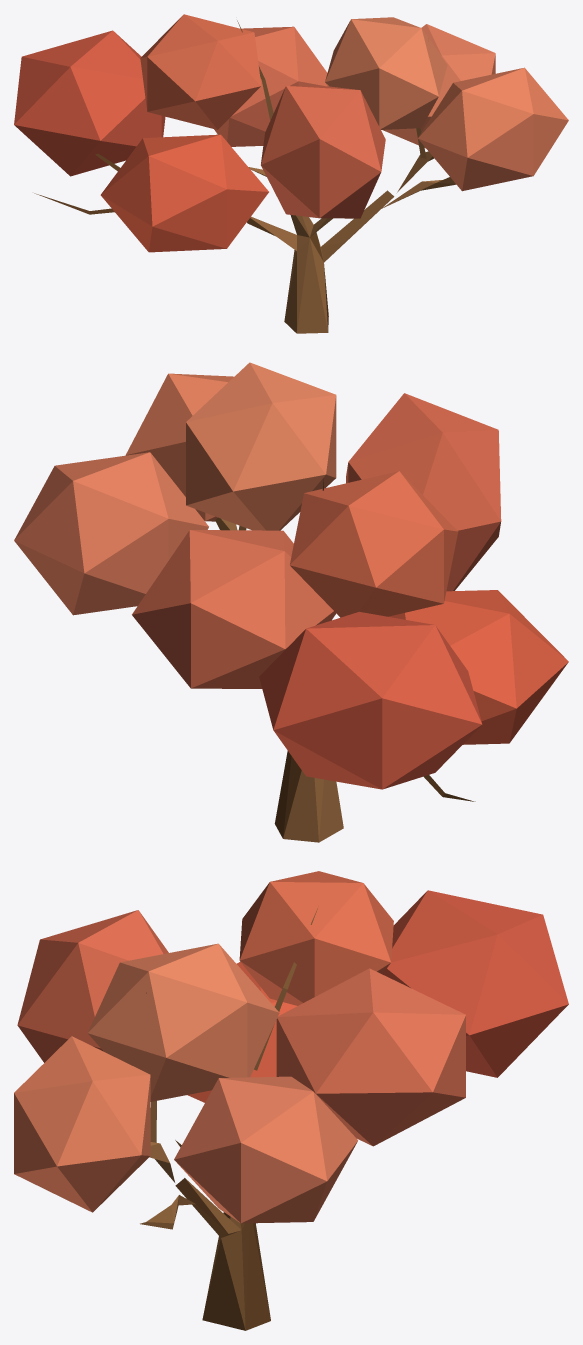
Rendered from cherry_var_autumn_far.glb.
3 renders of one model, top to bottom at view 1: azimuth 30°, elevation 25°; view 2: azimuth 150°, elevation 25°; view 3: azimuth 270°, elevation 25°, orthographic. The views are drawn at different scales.
Visible parts, largest first — view 1: cherry_var_autumn_far; view 2: cherry_var_autumn_far; view 3: cherry_var_autumn_far.
Boxes of the visible parts, <box> form: cherry_var_autumn_far: <box>14,14,568,333</box>; cherry_var_autumn_far: <box>14,362,568,842</box>; cherry_var_autumn_far: <box>14,871,568,1330</box>.
Bounding box in the file's own units: 9.01 × 6.25 × 7.95.
